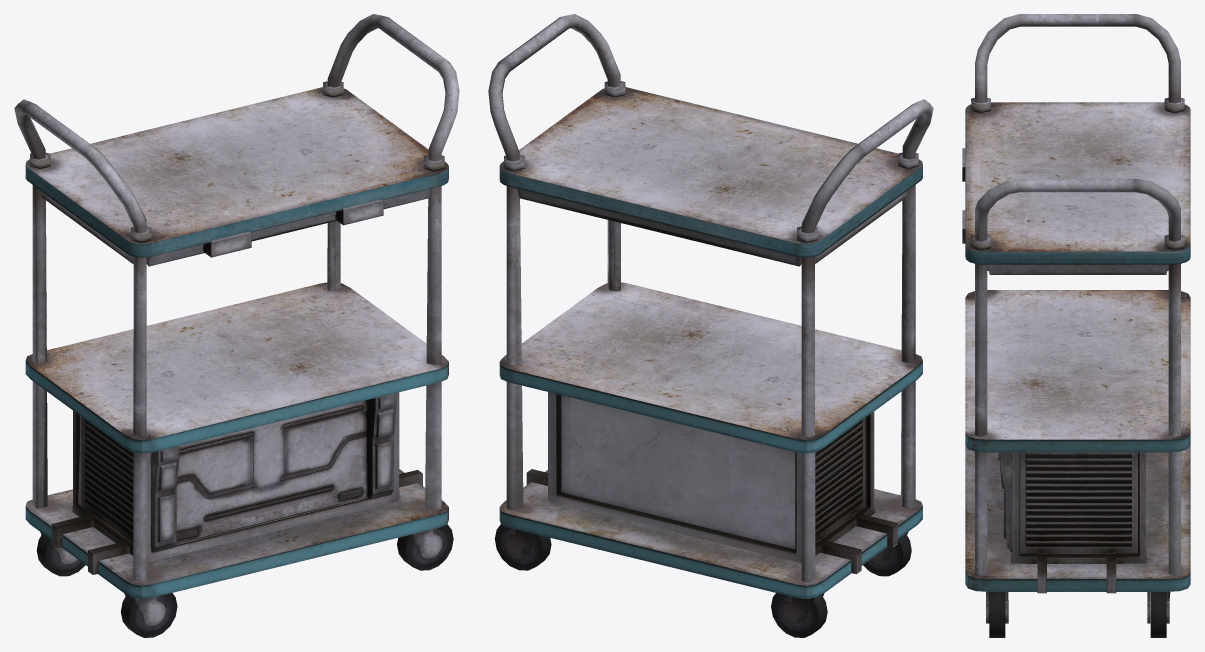
Rendered from trolley_scan_room_theta.DAE.
3 renders of one model, left to right at view 1: azimuth 30°, elevation 25°; view 2: azimuth 150°, elevation 25°; view 3: azimuth 270°, elevation 25°, orthographic. The views are drawn at different scales.
Visible parts, largest first — view 1: Object181; view 2: Object181; view 3: Object181.
Part boxes in pixels (x1,y1,x2,y2): Object181: (14, 14, 459, 637); Object181: (488, 14, 933, 637); Object181: (962, 14, 1190, 637).
Bounding box in the file's own units: 0.9165 × 1.18 × 0.5174.
